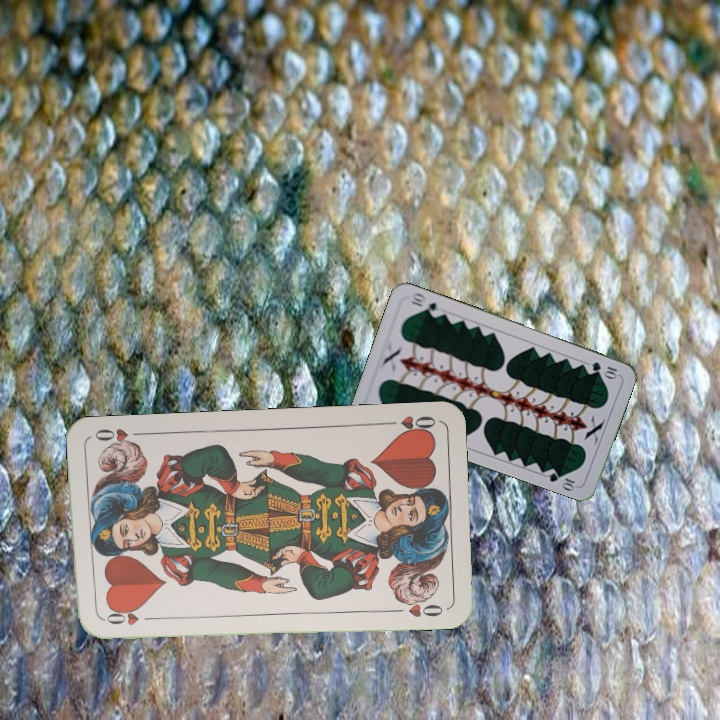G10: (587, 358, 621, 381)
HO: (380, 411, 438, 437), (98, 608, 158, 628)
